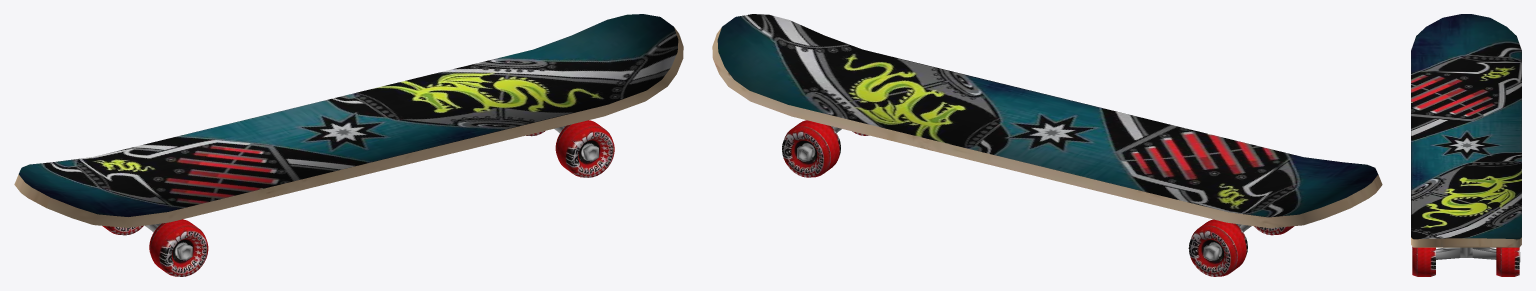
Rendered from skateboard.glb.
3 renders of one model, left to right at view 1: azimuth 30°, elevation 25°; view 2: azimuth 150°, elevation 25°; view 3: azimuth 270°, elevation 25°, orthographic. The views are drawn at different scales.
Visible parts, largest first — view 1: board01_0, wheel01_000_0, undercarriage_0; view 2: board01_0, wheel01_000_0, undercarriage_0; view 3: board01_0, wheel01_000_0, undercarriage_0.
Part boxes in pixels (box(x1,y1,x2,y2)): board01_0: box(14, 14, 683, 227); wheel01_000_0: box(102, 120, 614, 276); undercarriage_0: box(145, 125, 598, 260); board01_0: box(712, 14, 1382, 228); wheel01_000_0: box(782, 120, 1294, 276); undercarriage_0: box(797, 126, 1251, 260); board01_0: box(1411, 14, 1521, 247); wheel01_000_0: box(1412, 246, 1519, 276); undercarriage_0: box(1436, 247, 1520, 262).
Bounding box in the file's own units: 0.81 × 0.1241 × 0.1628.
Materials: 3 (2 with a texture image).
